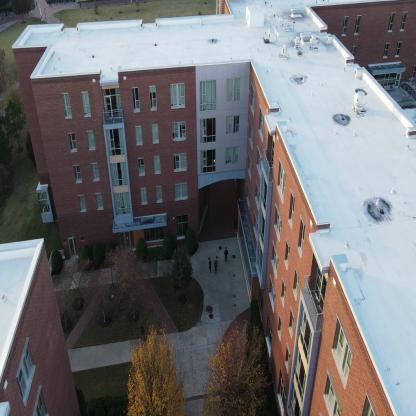Wolf Ridge: (8, 8, 415, 415)
